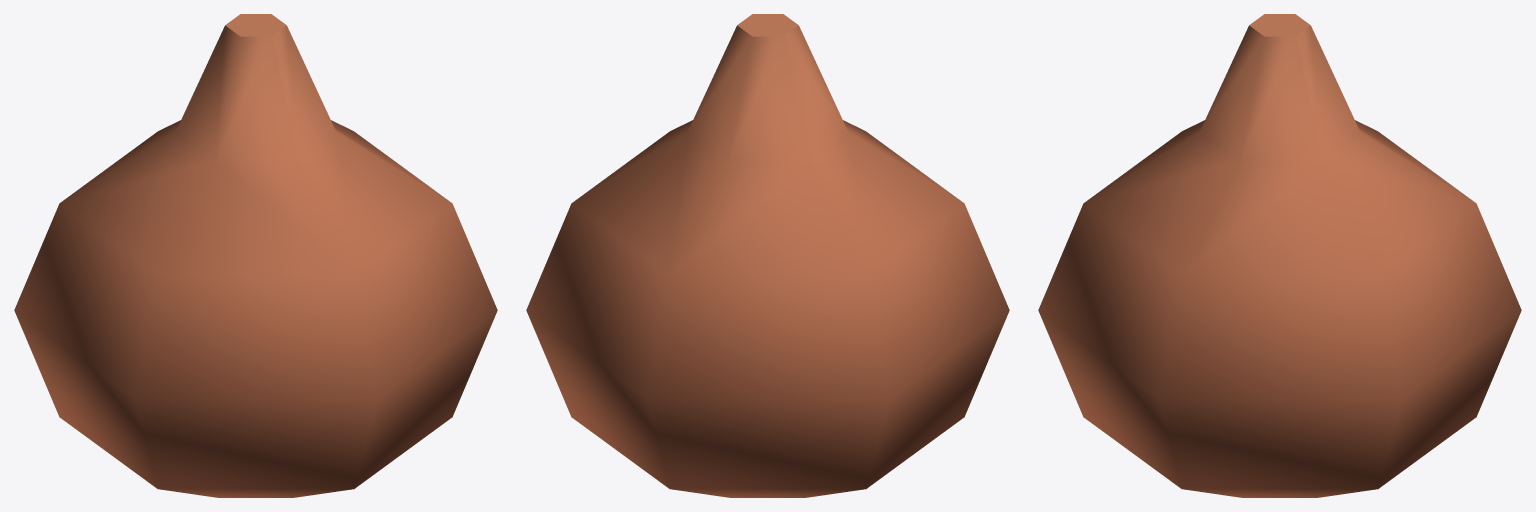
The model's file is onion.glb.
3 views of the same model, side by side, from view 1: azimuth 30°, elevation 25°; view 2: azimuth 150°, elevation 25°; view 3: azimuth 270°, elevation 25° (orthographic).
Parts seen in each view (by area): view 1: onion; view 2: onion; view 3: onion.
Boxes of the visible parts, x1,y1,x2,y2 form: onion: [14, 14, 497, 497]; onion: [526, 14, 1009, 497]; onion: [1038, 14, 1521, 497].
Bounding box in the file's own units: 0.213 × 0.25 × 0.246.
